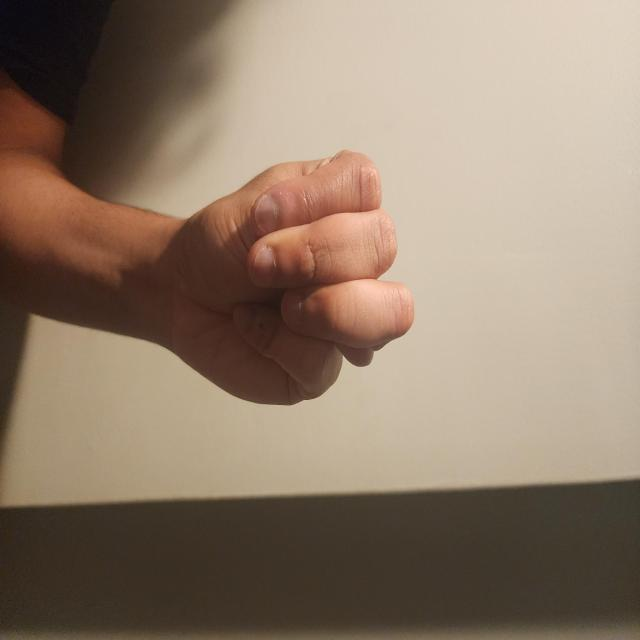M: (269, 295, 470, 636)
